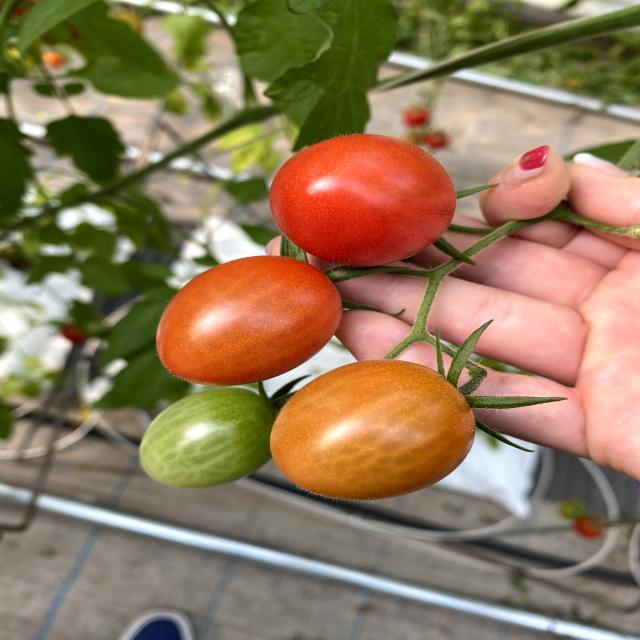ripe0: (140, 387, 271, 490)
ripe2: (270, 360, 476, 502), (271, 133, 458, 263), (156, 254, 341, 385)
